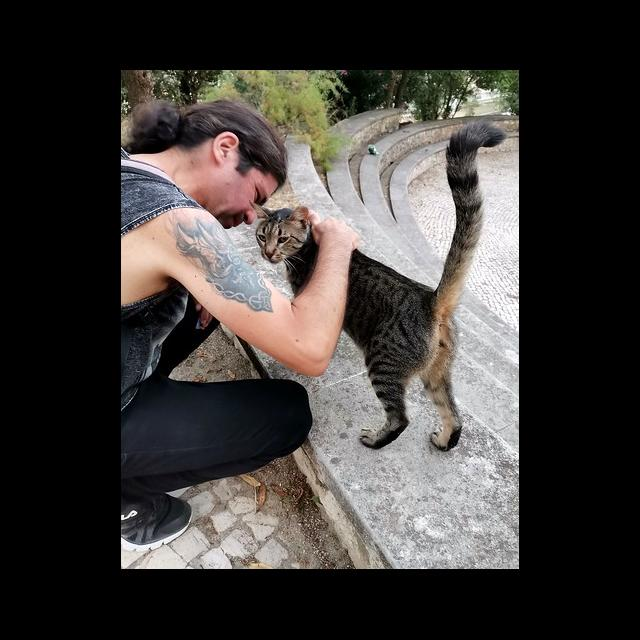animals: (251, 123, 503, 452)
